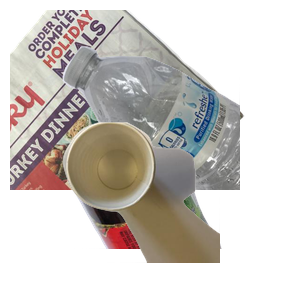glass: (66, 120, 300, 300)
paper: (10, 10, 247, 190)
plastic: (60, 44, 300, 224)
trash: (60, 120, 300, 300)
